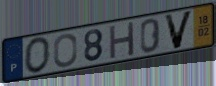0: (139, 17, 161, 55)
8: (83, 28, 105, 63)
H: (108, 20, 136, 61)
O: (23, 36, 52, 76), (52, 32, 78, 69)
V: (163, 8, 196, 51)
